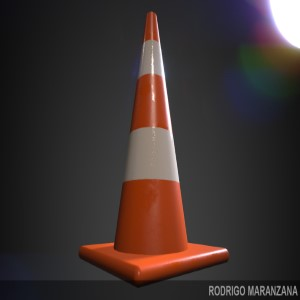traffic cone: (79, 11, 231, 288)
